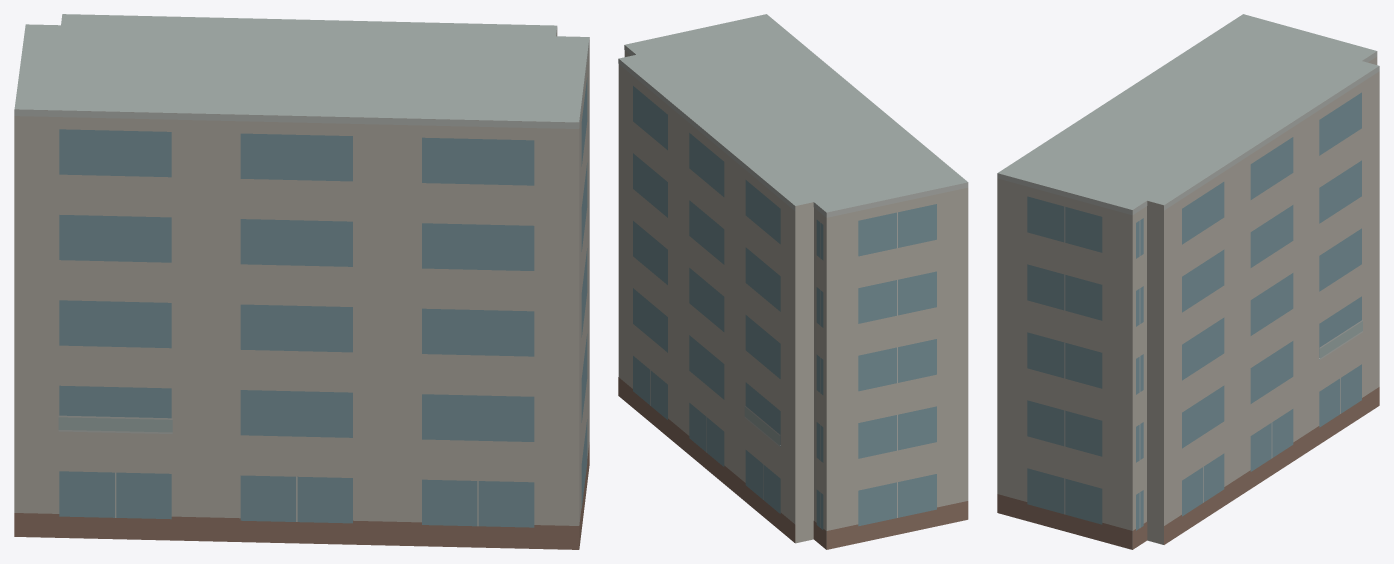
The model's file is survey-upis-32513522.glb.
3 views of the same model, side by side, from view 1: azimuth 30°, elevation 25°; view 2: azimuth 150°, elevation 25°; view 3: azimuth 270°, elevation 25° (orthographic). The views are drawn at different scales.
Visible parts, largest first — view 1: survey-upis-32513522.tmp; view 2: survey-upis-32513522.tmp; view 3: survey-upis-32513522.tmp.
Boxes of the visible parts, x1,y1,x2,y2 form: survey-upis-32513522.tmp: [14, 14, 589, 549]; survey-upis-32513522.tmp: [618, 14, 968, 549]; survey-upis-32513522.tmp: [997, 14, 1379, 549].
Bounding box in the file's own units: 19.31 × 15.6 × 15.91.
